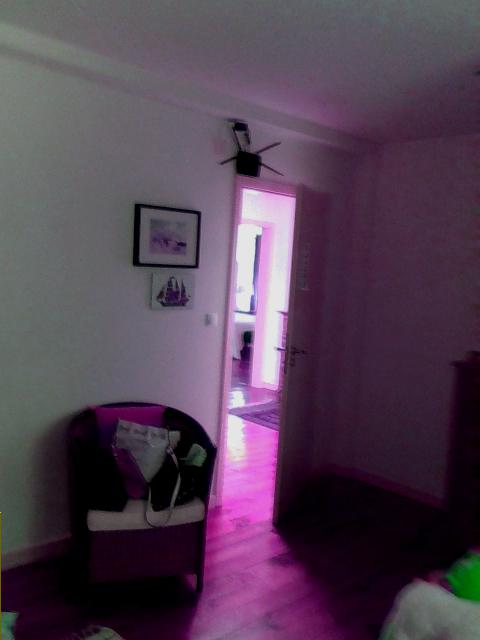semi_door: (211, 171, 317, 529)
